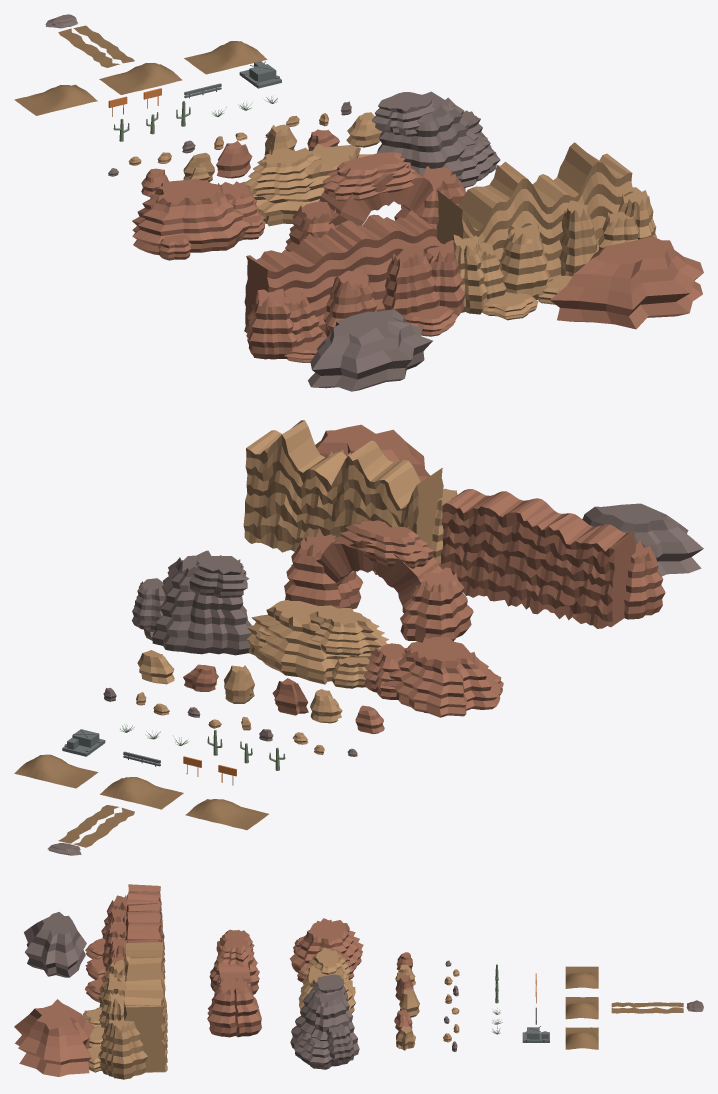
Rendered from environment_kit_v2_blockout.glb.
3 views of the same model, one above another, from view 1: azimuth 30°, elevation 25°; view 2: azimuth 150°, elevation 25°; view 3: azimuth 270°, elevation 25° (orthographic). The views are drawn at different scales.
Parts seen in each view (by area): view 1: CanyonWall_B_Stepped, CanyonWall_A_Concave, DistantMesa_B, RockArch_01, HeroRock_A_SplitCrown, HeroRock_C_BrokenButte, DistantMesa_A, HeroRock_B_LeaningStack, Dune_03, Dune_02, Dune_01, MediumRock_03 (+6 smaller); view 2: CanyonWall_A_Concave, CanyonWall_B_Stepped, RockArch_01, HeroRock_C_BrokenButte, HeroRock_B_LeaningStack, HeroRock_A_SplitCrown, DistantMesa_A, DistantMesa_B, Dune_03, Dune_02, Dune_01, MediumRock_04 (+6 smaller); view 3: CanyonWall_B_Stepped, RockArch_01, HeroRock_C_BrokenButte, CanyonWall_A_Concave, DistantMesa_B, DistantMesa_A, HeroRock_A_SplitCrown, HeroRock_B_LeaningStack, Dune_01, Dune_03, Dune_02, MediumRock_04 (+4 smaller).
Part boxes in pixels (box(x1,y1,x2,y2)): CanyonWall_B_Stepped: box(436, 142, 656, 320); CanyonWall_A_Concave: box(244, 210, 464, 362); DistantMesa_B: box(550, 236, 703, 329); RockArch_01: box(285, 152, 465, 251); HeroRock_A_SplitCrown: box(132, 179, 265, 260); HeroRock_C_BrokenButte: box(371, 91, 500, 188); DistantMesa_A: box(308, 309, 432, 391); HeroRock_B_LeaningStack: box(244, 143, 372, 226); Dune_03: box(184, 41, 267, 74); Dune_02: box(99, 63, 182, 94); Dune_01: box(14, 84, 97, 115); MediumRock_03: box(216, 141, 252, 178); CanyonWall_A_Concave: box(440, 489, 665, 628); CanyonWall_B_Stepped: box(243, 420, 457, 574); RockArch_01: box(284, 520, 473, 642); HeroRock_C_BrokenButte: box(132, 550, 251, 655); HeroRock_B_LeaningStack: box(247, 600, 388, 688); HeroRock_A_SplitCrown: box(363, 636, 503, 717); DistantMesa_A: box(582, 503, 703, 576); DistantMesa_B: box(315, 424, 430, 481); Dune_03: box(14, 754, 98, 788); Dune_02: box(100, 777, 183, 809); Dune_01: box(185, 799, 268, 830); MediumRock_04: box(224, 665, 254, 703); CanyonWall_B_Stepped: box(82, 942, 167, 1079); RockArch_01: box(207, 929, 261, 1037); HeroRock_C_BrokenButte: box(290, 974, 359, 1069); CanyonWall_A_Concave: box(85, 884, 165, 1002); DistantMesa_B: box(14, 999, 94, 1076); DistantMesa_A: box(24, 912, 86, 977); HeroRock_A_SplitCrown: box(289, 918, 363, 982); HeroRock_B_LeaningStack: box(298, 947, 355, 1014); Dune_01: box(565, 966, 598, 988); Dune_03: box(565, 1027, 598, 1049); Dune_02: box(565, 997, 598, 1019); MediumRock_04: box(399, 989, 419, 1017).
Bounding box in the file's own units: 53.22 × 14.15 × 105.
